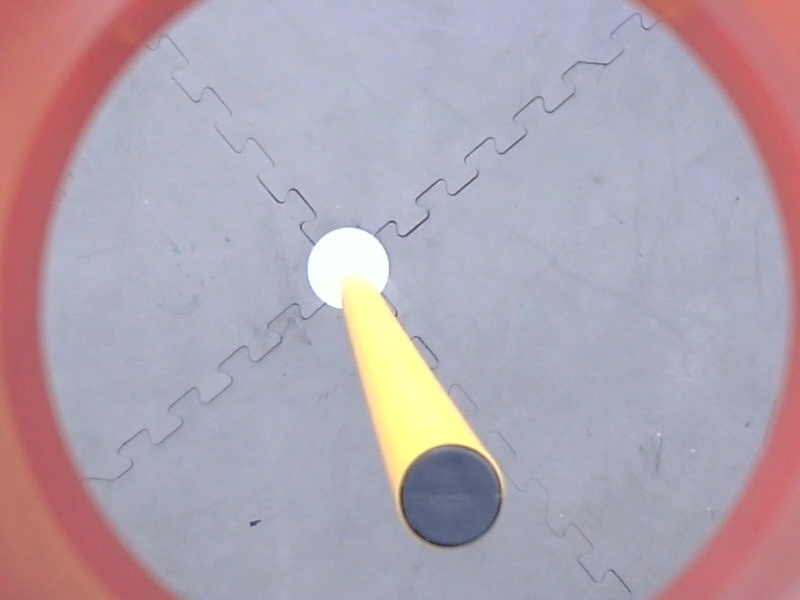tip: (389, 439, 509, 556)
